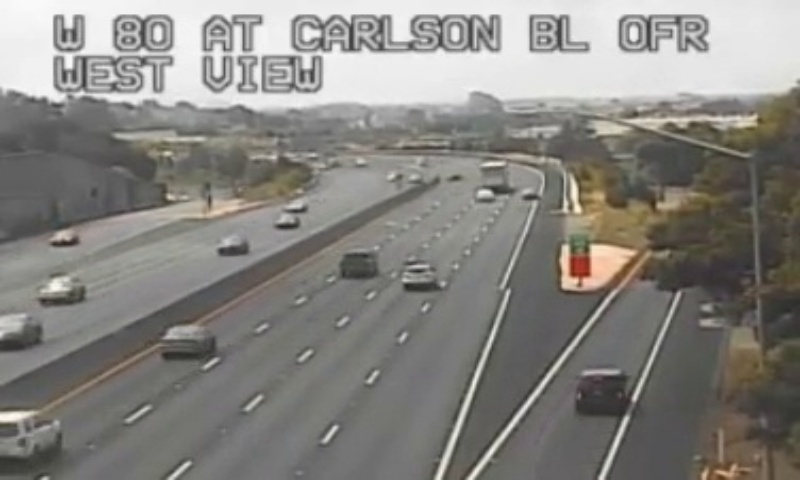car: (1, 407, 60, 461), (574, 369, 625, 411), (159, 324, 212, 357), (338, 250, 376, 277), (401, 263, 432, 285)
